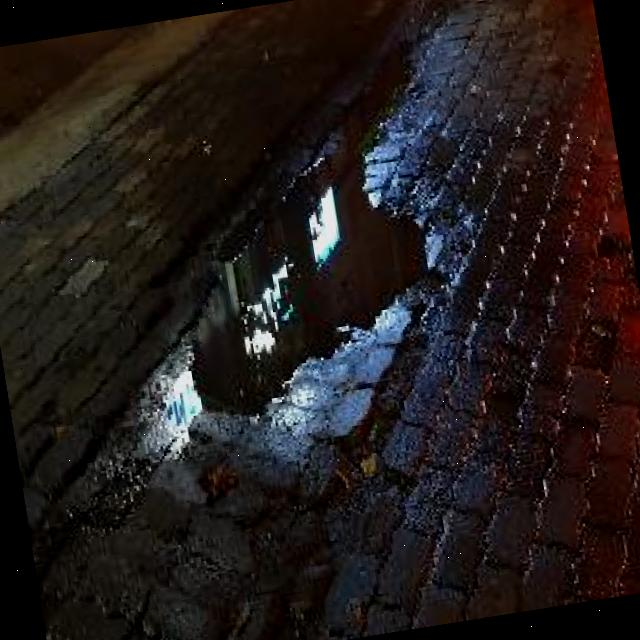stagnation: (144, 164, 458, 396)
